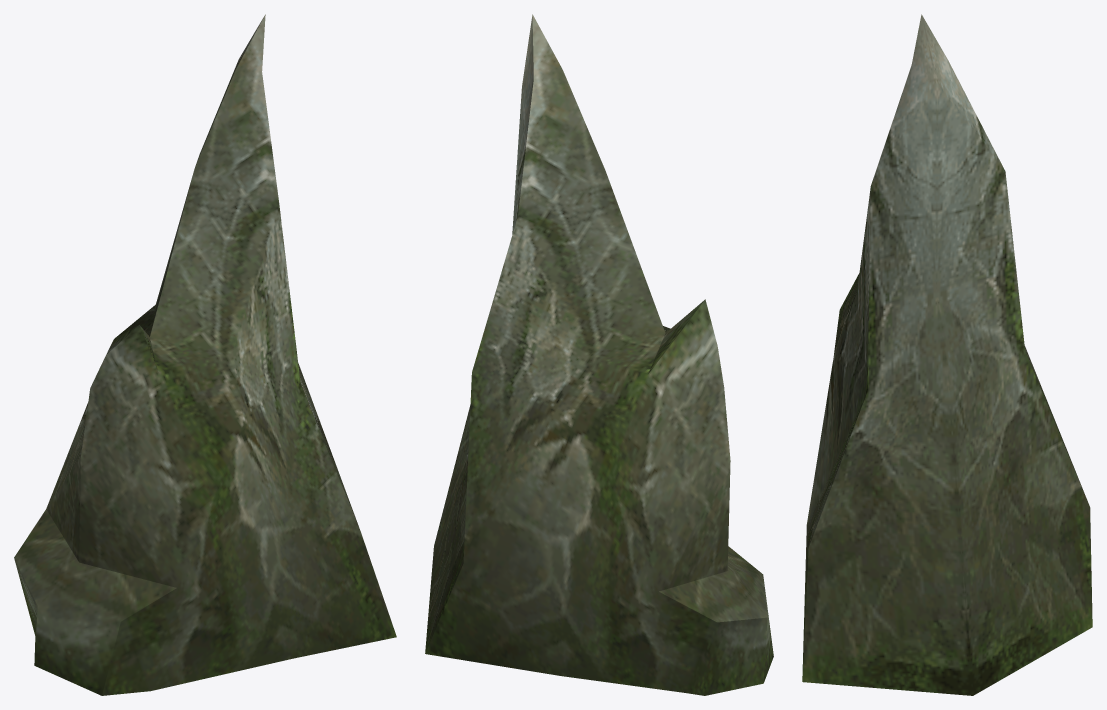
The model's file is 3004_Item_shitou_9.FBX.
3 views of the same model, side by side, from view 1: azimuth 30°, elevation 25°; view 2: azimuth 150°, elevation 25°; view 3: azimuth 270°, elevation 25° (orthographic). The views are drawn at different scales.
Visible parts, largest first — view 1: 3004_Item_shitou_9; view 2: 3004_Item_shitou_9; view 3: 3004_Item_shitou_9.
Part boxes in pixels (x1,y1,x2,y2): 3004_Item_shitou_9: (14, 14, 396, 695); 3004_Item_shitou_9: (425, 14, 773, 695); 3004_Item_shitou_9: (802, 14, 1092, 695).
Bounding box in the file's own units: 215 × 415 × 169.
